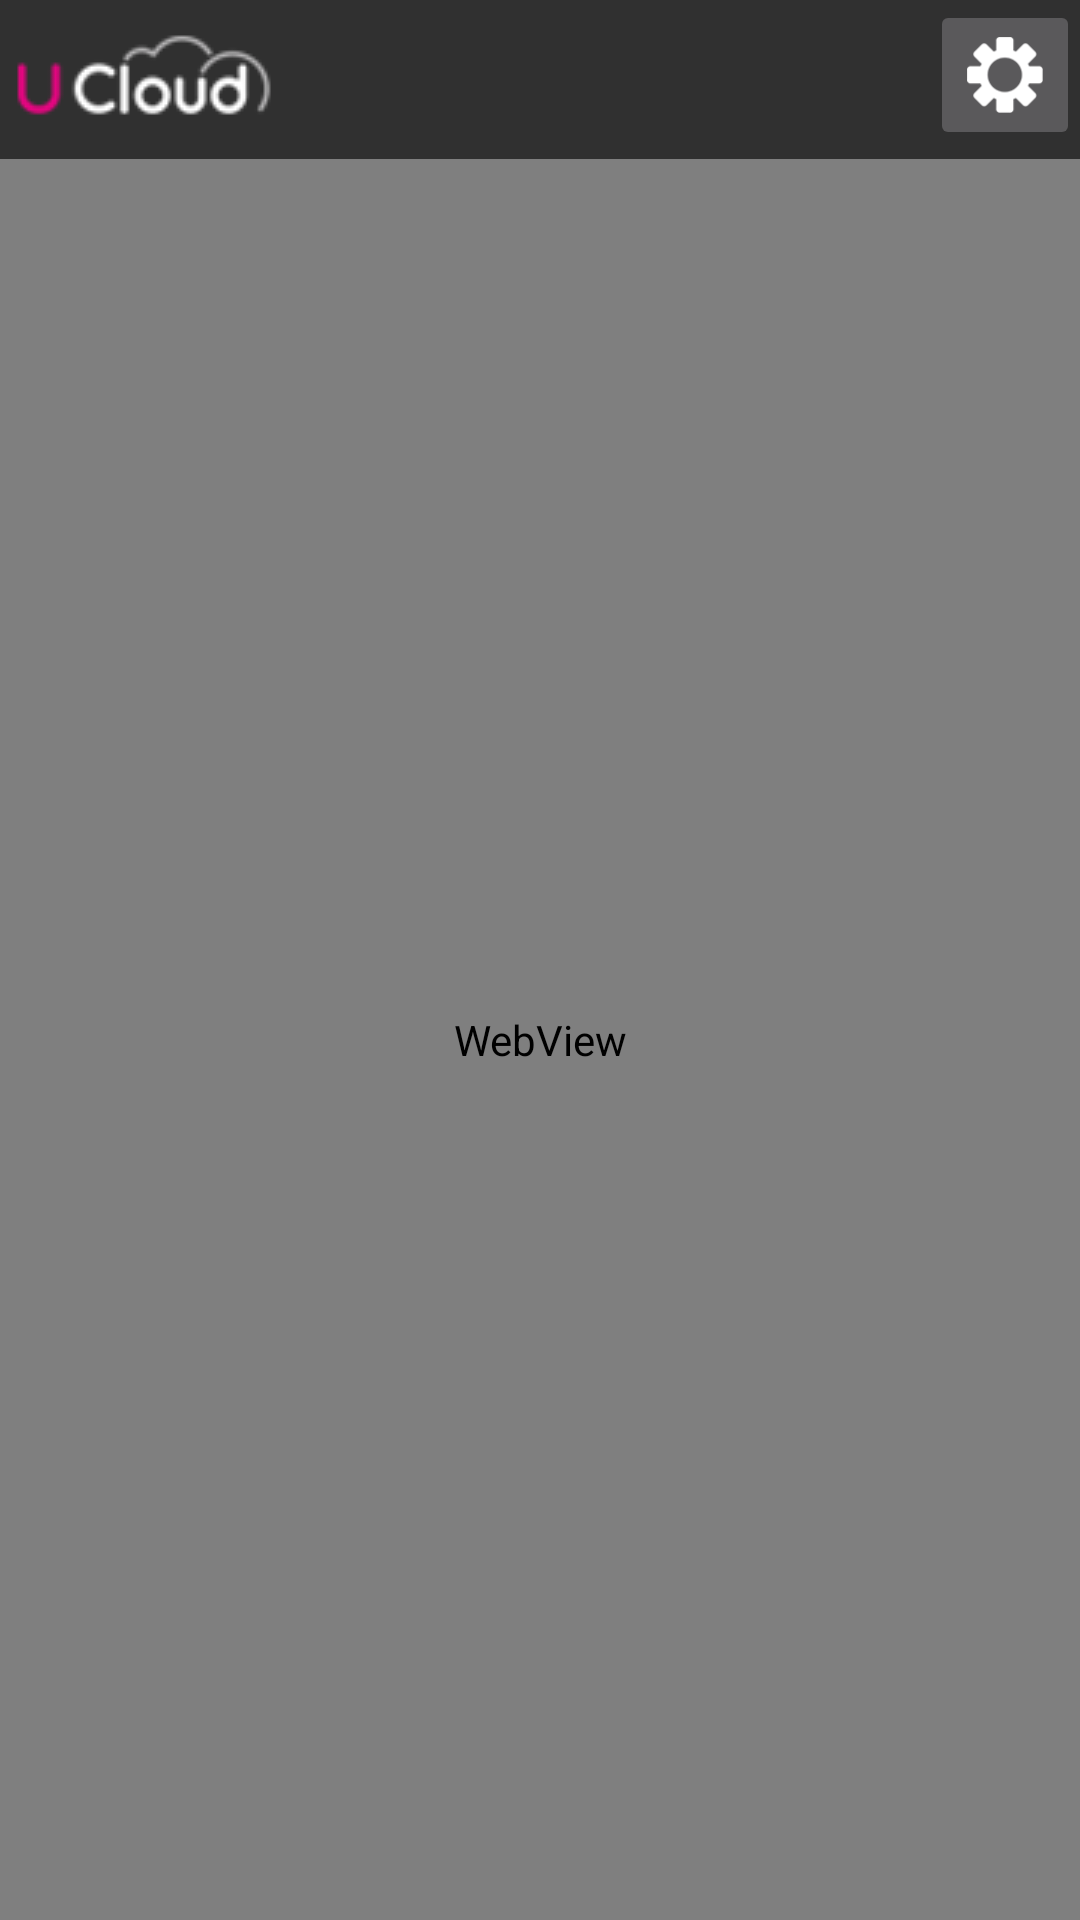

Icons on this 1080px x 1920px Android screen, each with the point to tap as (x=x, y=y):
setting: (x=1005, y=75)
